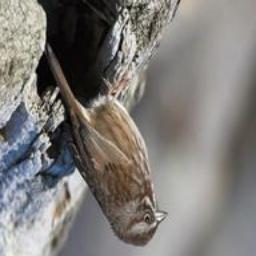Sparrow: (45, 41, 169, 248)
